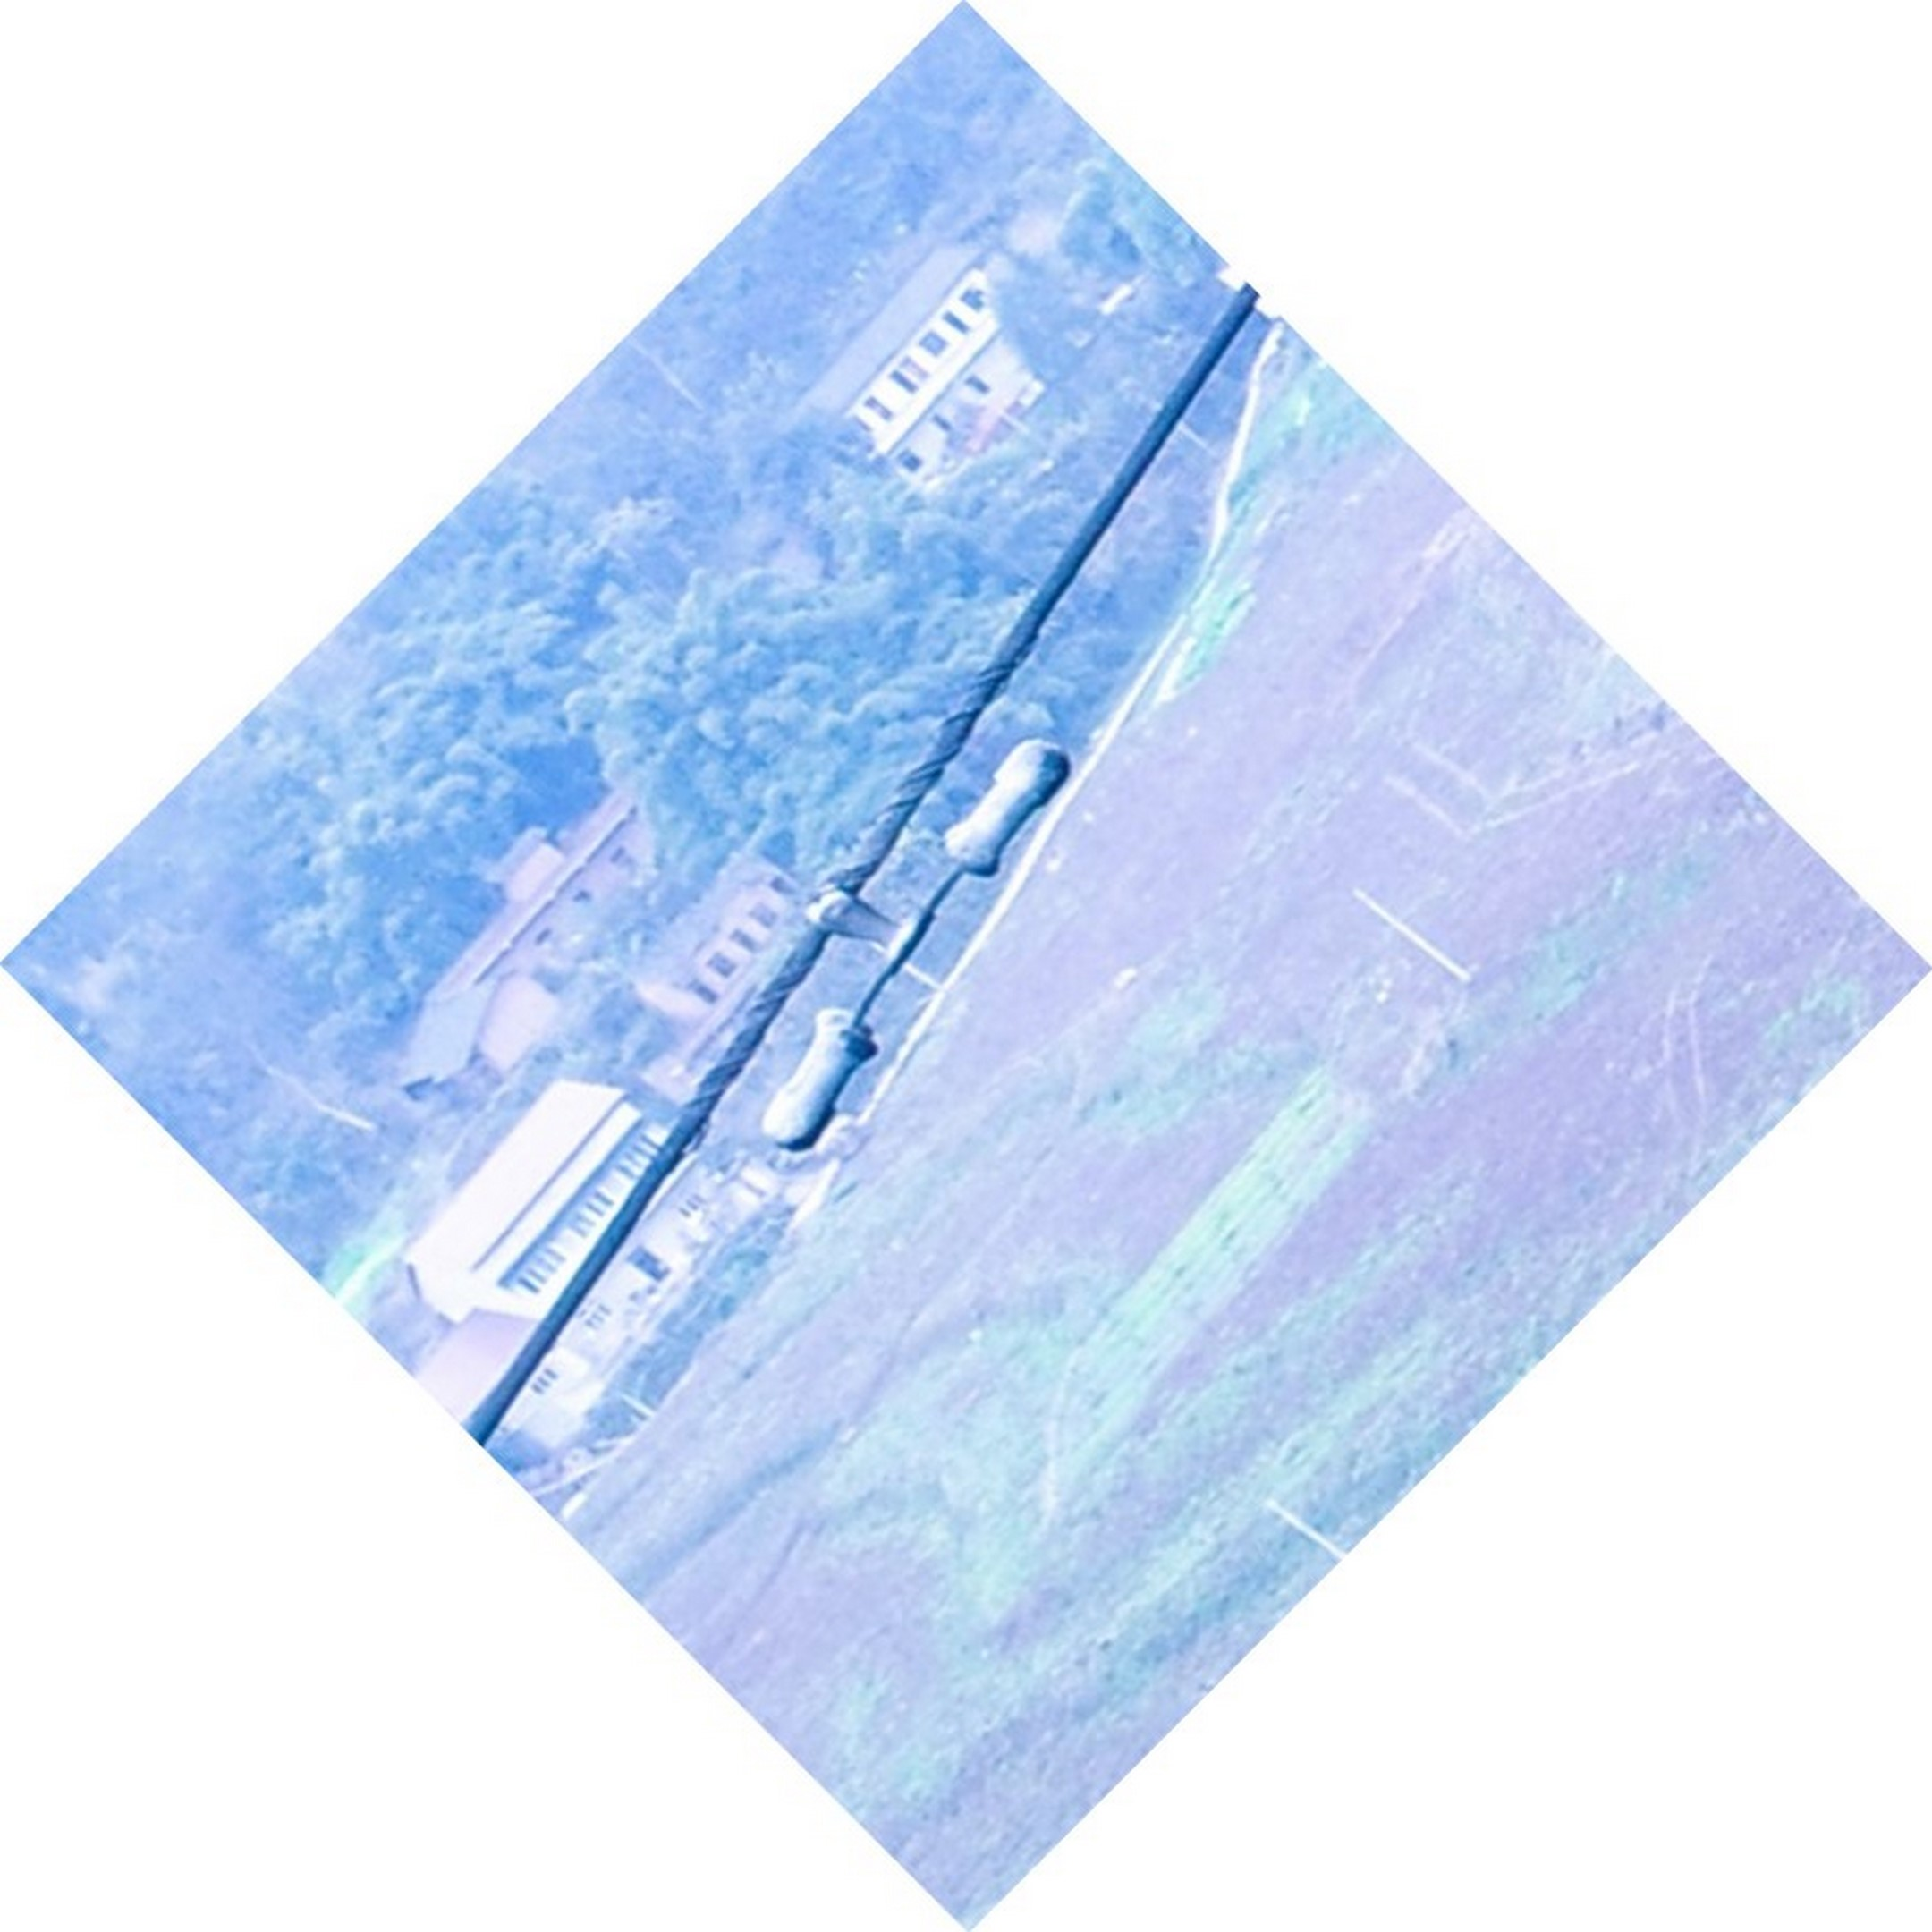Shockproof hammer: (699, 715, 1099, 1175)
